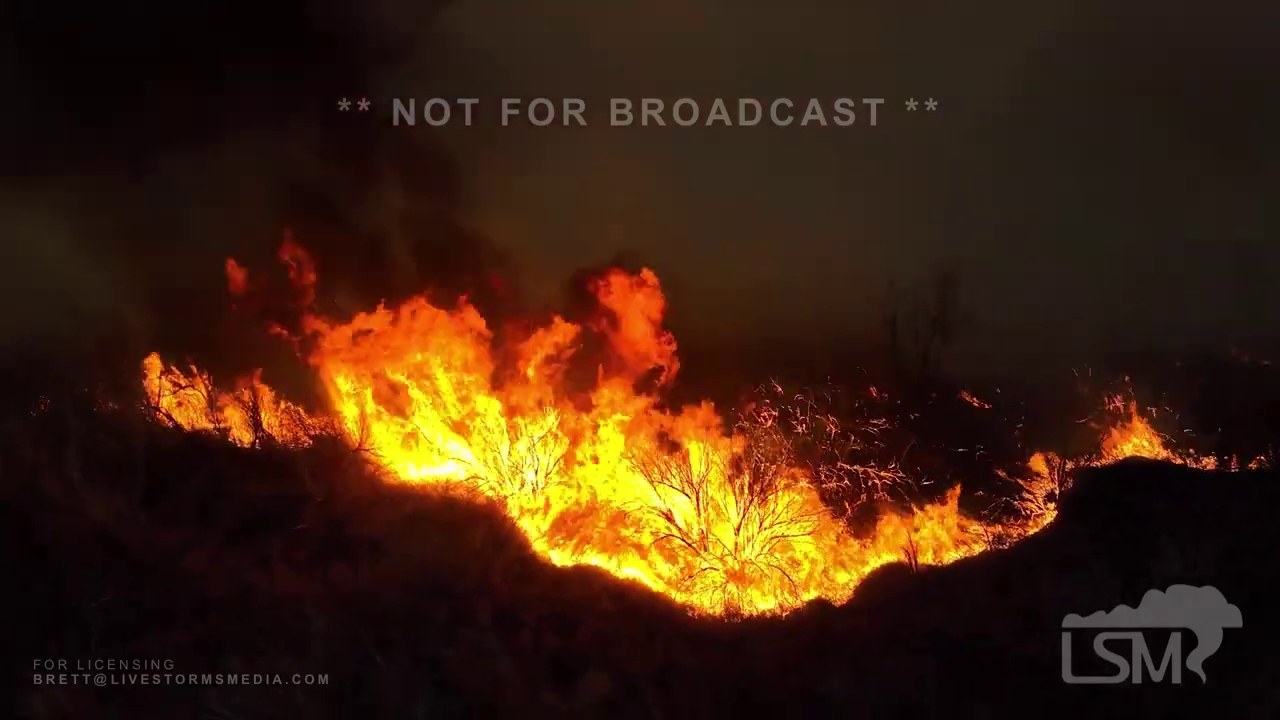forest_fire: (143, 237, 1212, 614), (224, 258, 248, 296), (847, 467, 897, 481), (274, 327, 286, 333)
